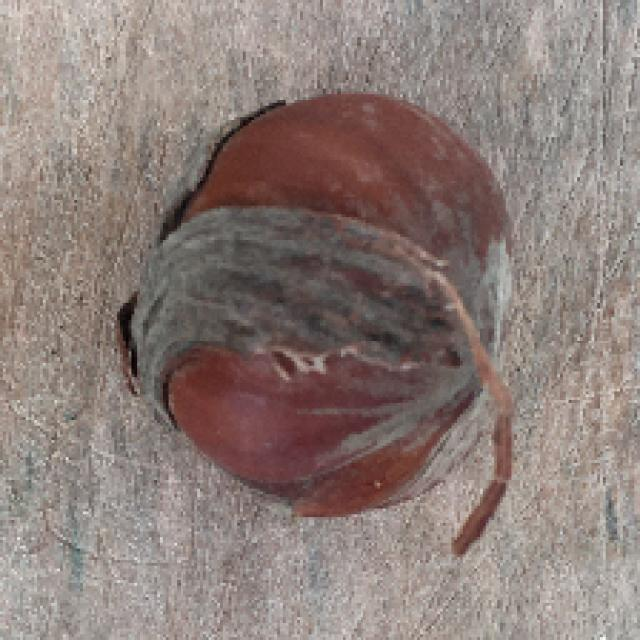damagedHazelnut: (117, 91, 520, 526)
